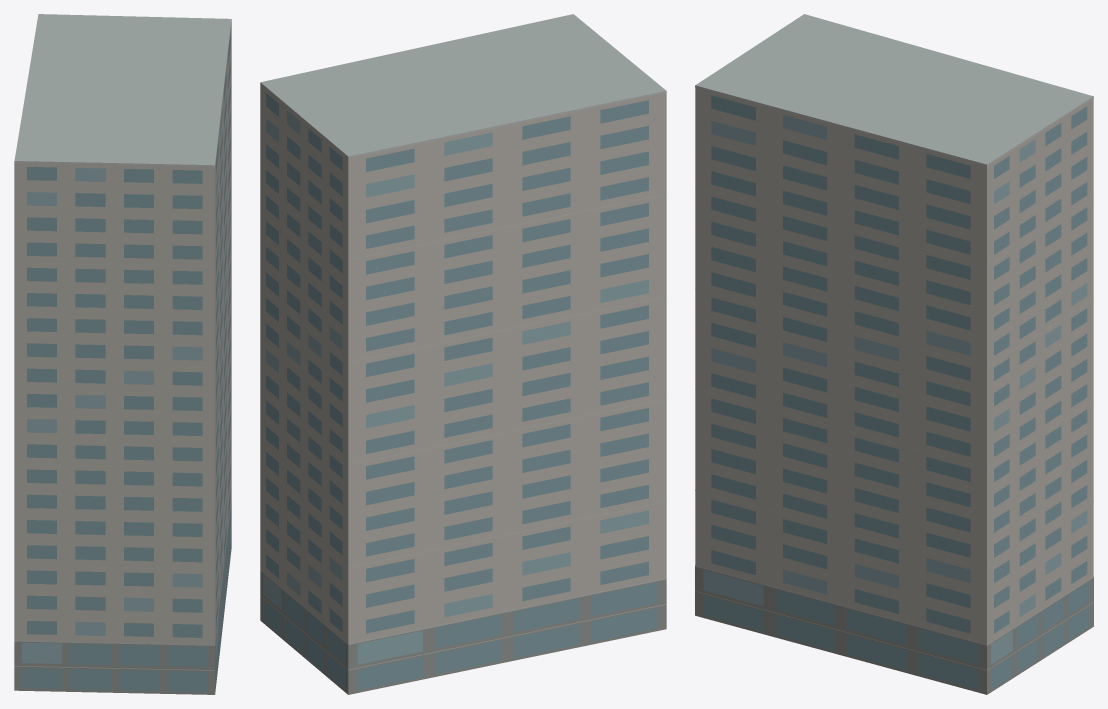
The model's file is survey-upis-32974998.glb.
3 renders of one model, left to right at view 1: azimuth 30°, elevation 25°; view 2: azimuth 150°, elevation 25°; view 3: azimuth 270°, elevation 25°, orthographic.
Visible parts, largest first — view 1: survey-upis-32974998.tmp; view 2: survey-upis-32974998.tmp; view 3: survey-upis-32974998.tmp.
Boxes of the visible parts, left/top/right/bottom form: survey-upis-32974998.tmp: left=14, top=14, right=231, bottom=694; survey-upis-32974998.tmp: left=260, top=14, right=666, bottom=694; survey-upis-32974998.tmp: left=695, top=14, right=1093, bottom=694.
Bounding box in the file's own units: 39.04 × 64.05 × 43.66.
